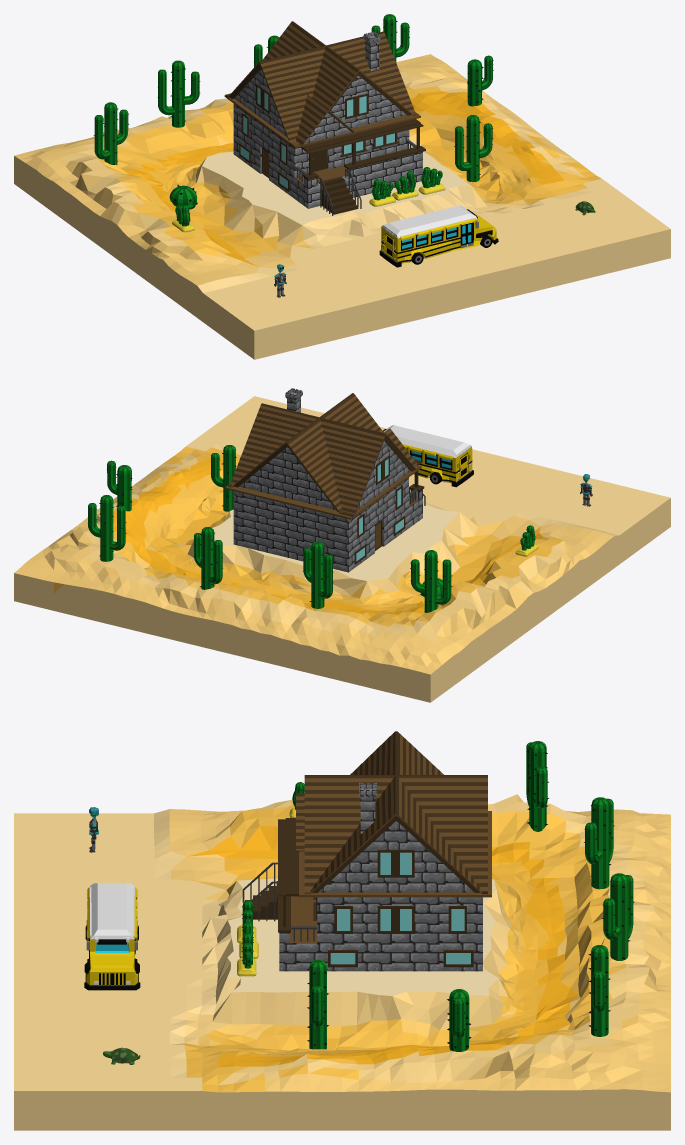
3 views of the same model, one above another, from view 1: azimuth 30°, elevation 25°; view 2: azimuth 150°, elevation 25°; view 3: azimuth 270°, elevation 25° (orthographic). The views are drawn at different scales.
Visible parts, largest first — view 1: Cube.001, Cube.586, VEHICLES_SCHOOL_BUS, Cylinder.037, Cylinder.044, Cylinder.045, Cylinder.038, Cylinder.042, Cylinder.039, Cylinder.041, Sphere.023, Cylinder.040; view 2: Cube.001, Cube.586, VEHICLES_SCHOOL_BUS, Cylinder.042, Cylinder.045, Cylinder.044, Cylinder.043, Cylinder.037, Cylinder.038; view 3: Cube.001, Cube.586, VEHICLES_SCHOOL_BUS, Cylinder.043, Cylinder.044, Cylinder.045, Cylinder.042, Cylinder.037, Cylinder.038, Cylinder.041.
Part boxes in pixels (x1,y1,x2,y2): Cube.001: (14,54,670,359); Cube.586: (224,21,425,215); VEHICLES_SCHOOL_BUS: (379,205,498,267); Cylinder.037: (454,115,493,182); Cylinder.044: (157,60,200,127); Cylinder.045: (93,102,129,164); Cylinder.038: (467,55,493,106); Cylinder.042: (371,14,409,62); Cylinder.039: (369,179,395,206); Cylinder.041: (418,167,445,194); Sphere.023: (169,184,197,209); Cylinder.040: (392,171,418,200); Cube.001: (14,396,670,702); Cube.586: (225,388,425,572); VEHICLES_SCHOOL_BUS: (383,425,473,487); Cylinder.042: (88,495,126,561); Cylinder.045: (410,550,452,612); Cylinder.044: (303,541,333,608); Cylinder.043: (193,527,222,589); Cylinder.037: (211,445,240,511); Cylinder.038: (107,460,132,511); Cube.001: (14,794,670,1130); Cube.586: (242,731,491,971); VEHICLES_SCHOOL_BUS: (84,883,140,990); Cylinder.043: (602,873,634,960); Cylinder.044: (584,797,614,889); Cylinder.045: (526,741,548,831); Cylinder.042: (588,945,610,1036); Cylinder.037: (307,959,328,1049); Cylinder.038: (447,989,471,1051); Cylinder.041: (237,933,256,976).
Size of the model in its own units: 4002 by 1644 by 4001.
Materials: 35 (3 with a texture image).
